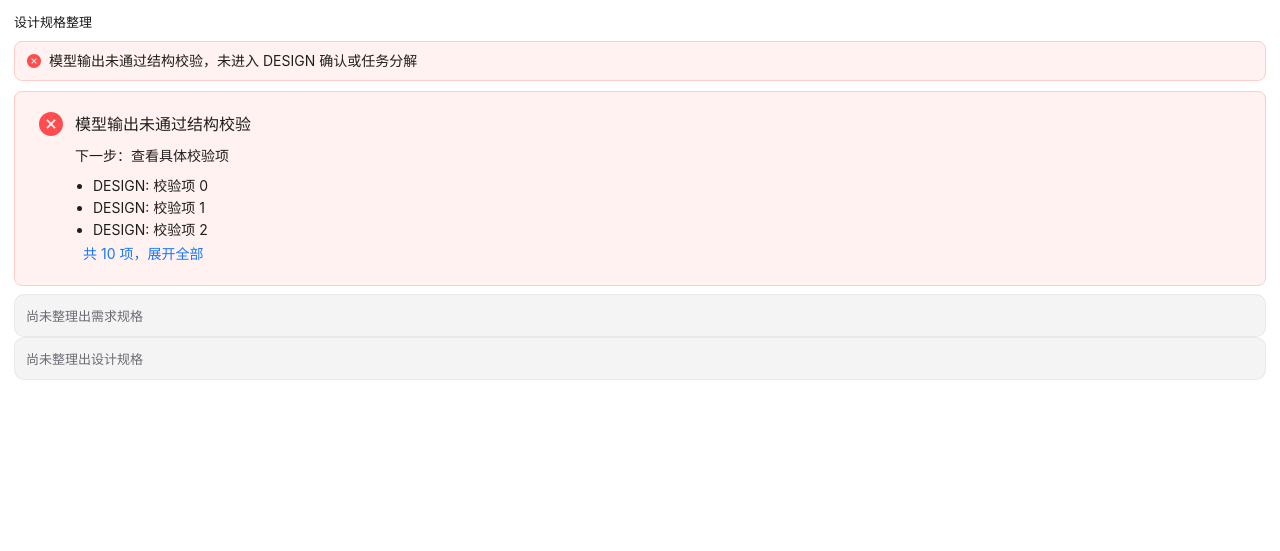
Test case: DesignSpecPreview compact summary › never truncates the validation errors behind the first few either
Click the button "共 10 项，展开全部": {"x": 143, "y": 253} [75,241,211,265]
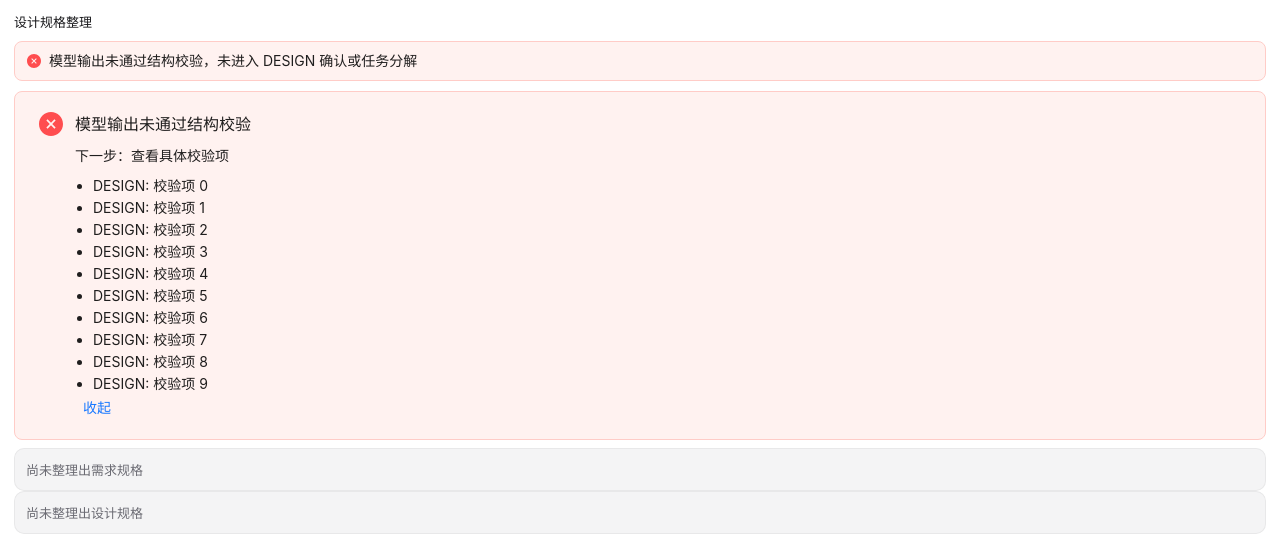
Check: the message with test id "design-error-hint" shows "校验项 9", box [93,375,208,392]
